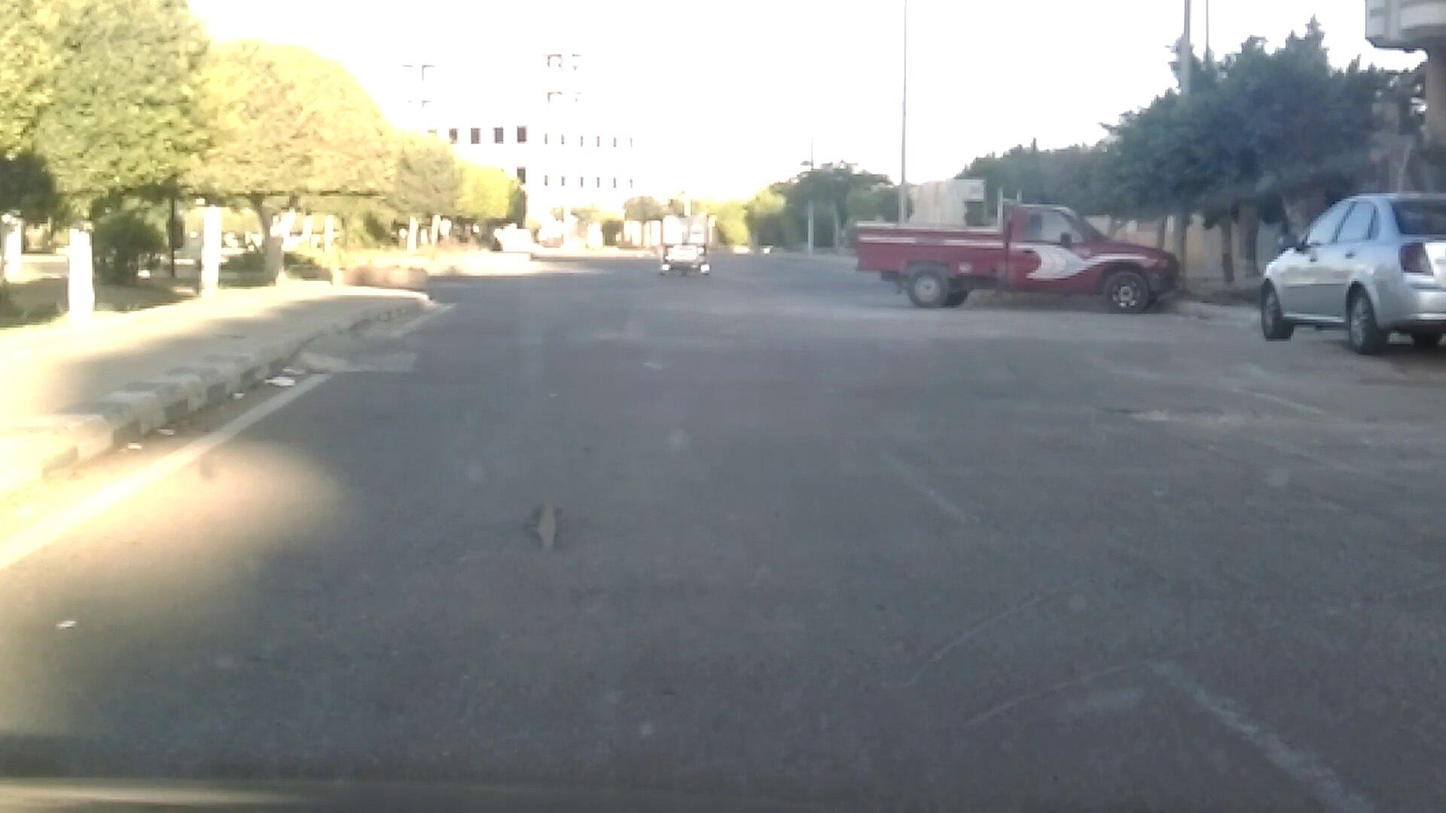Bump: (322, 326, 1292, 378)
